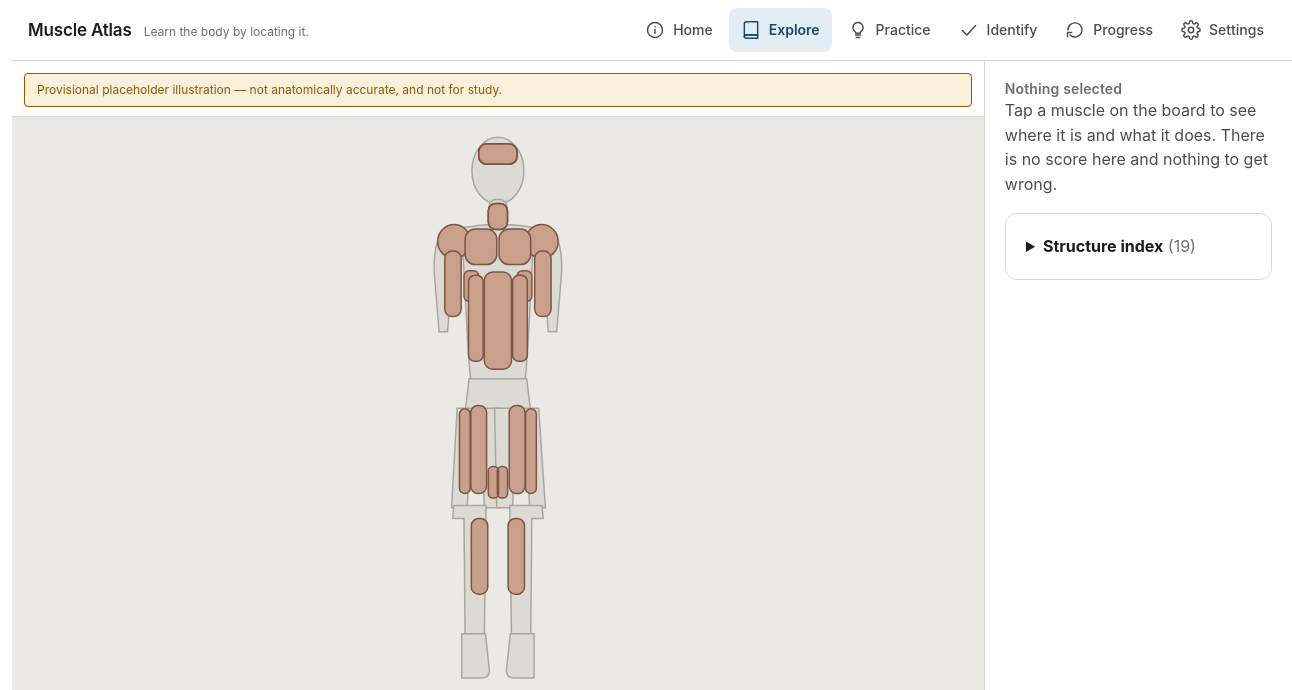
Test case: explore mode › shows sourced, reviewed detail for a selected structure
Step 1. Click the text "Structure index" → (1103, 246), box [1043,236,1163,256]
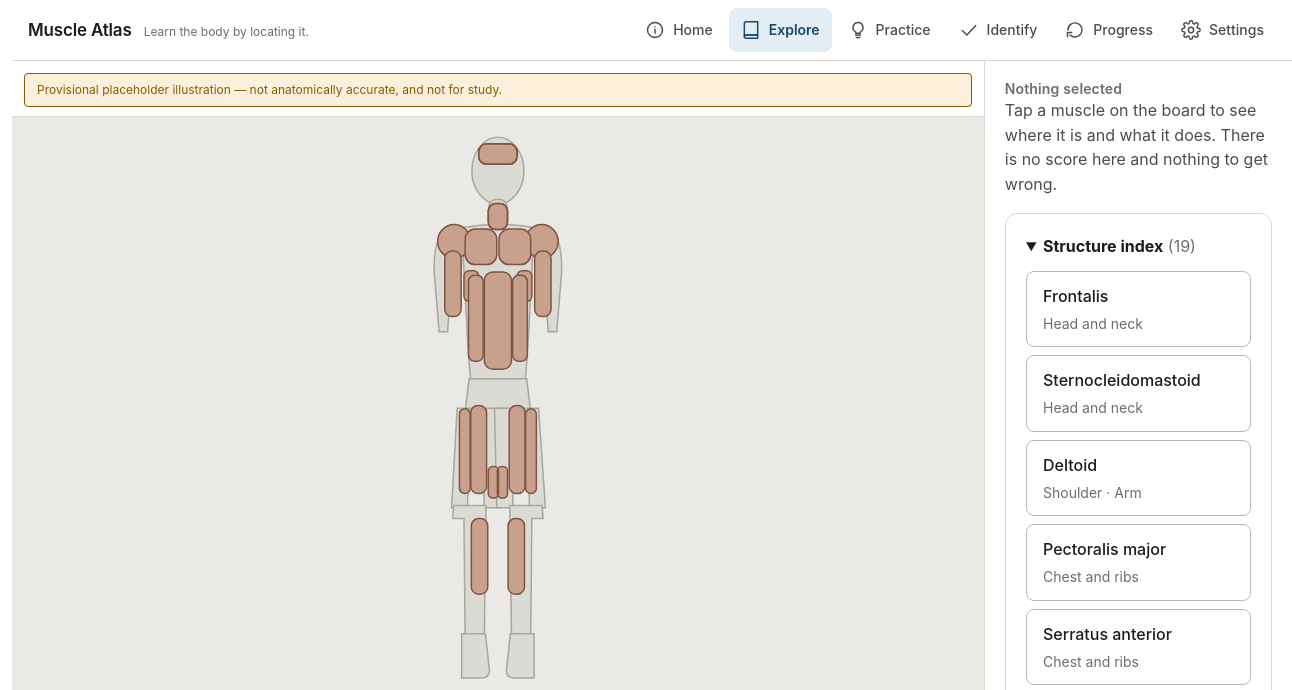
Step 2. Click the button "Frontalis Head and neck" → (1138, 309), box [1026,271,1251,347]
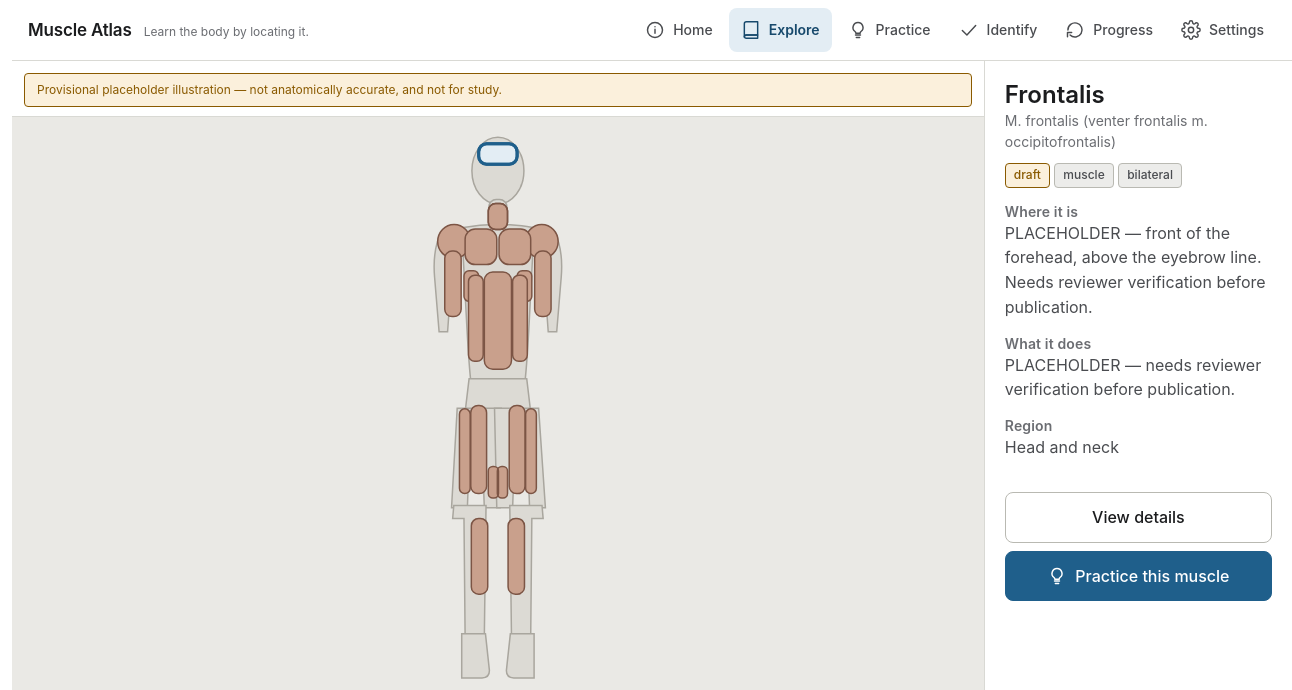
Expected: the heading "Frontalis" is shown, [1005,80,1105,109]
Step 3. Click the button "View details" → (1138, 517), box [1005,492,1272,542]
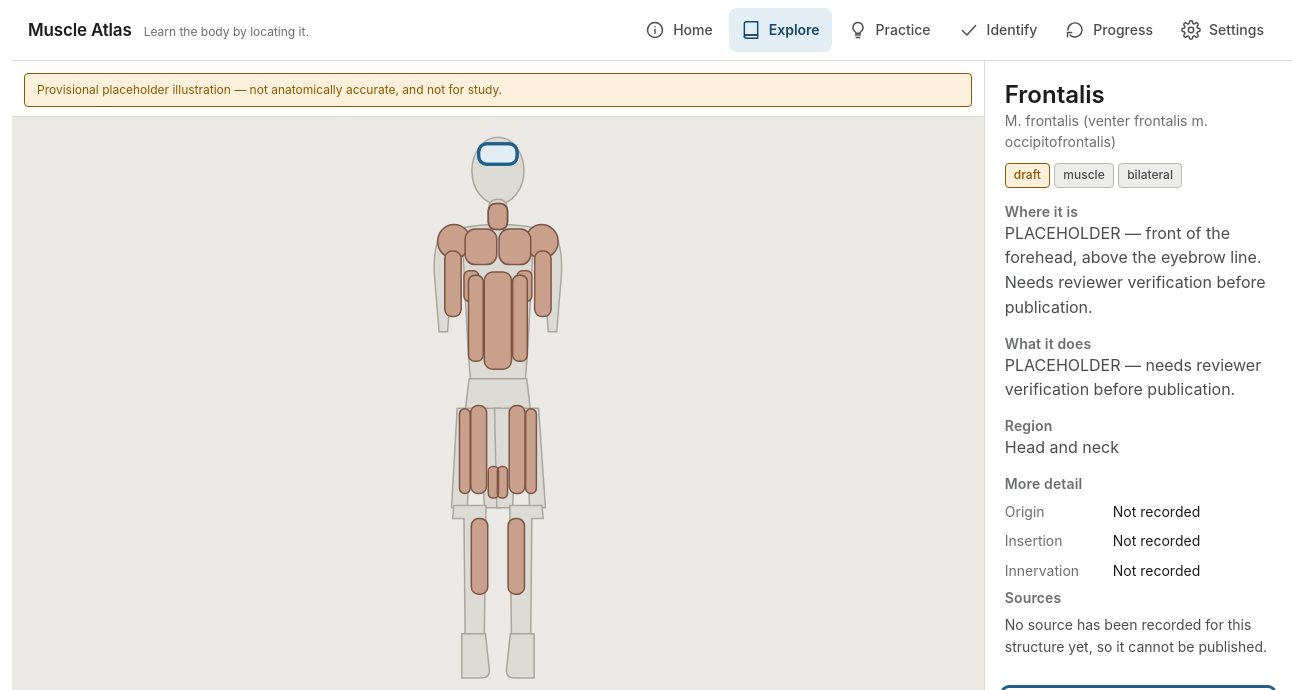
Expected: the text "draft" is shown, [1005,163,1050,188]
Expected: the text "No source has been recorded" is shown, [1005,616,1267,655]
